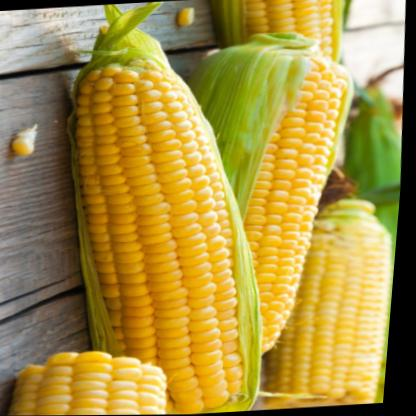---: (48, 48, 283, 416), (207, 45, 373, 364), (272, 191, 404, 408), (0, 346, 184, 416), (222, 0, 345, 69)
